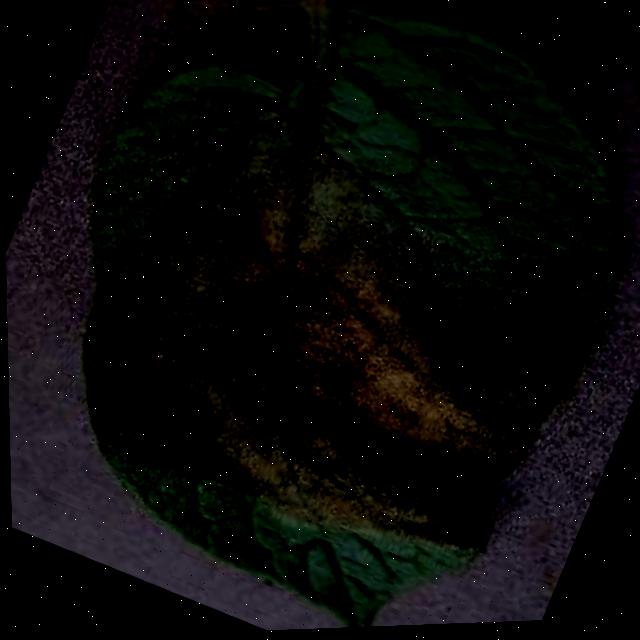Late_blight: (71, 101, 625, 620)
